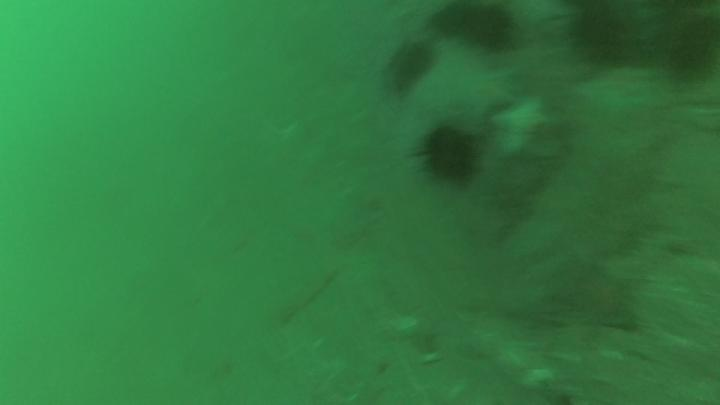echinus: (409, 117, 491, 192), (568, 2, 647, 72), (441, 1, 523, 58), (666, 11, 720, 85), (382, 38, 441, 96)
starfish: (565, 261, 644, 334)
